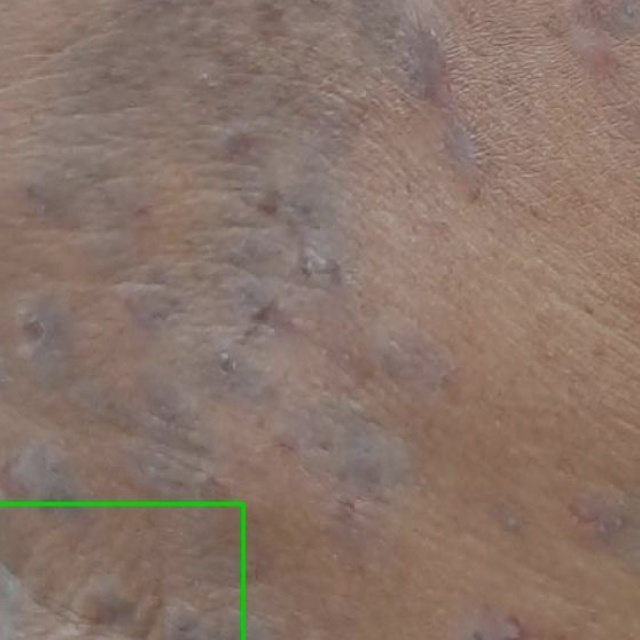Contact Dermatitis: (0, 503, 243, 639)
